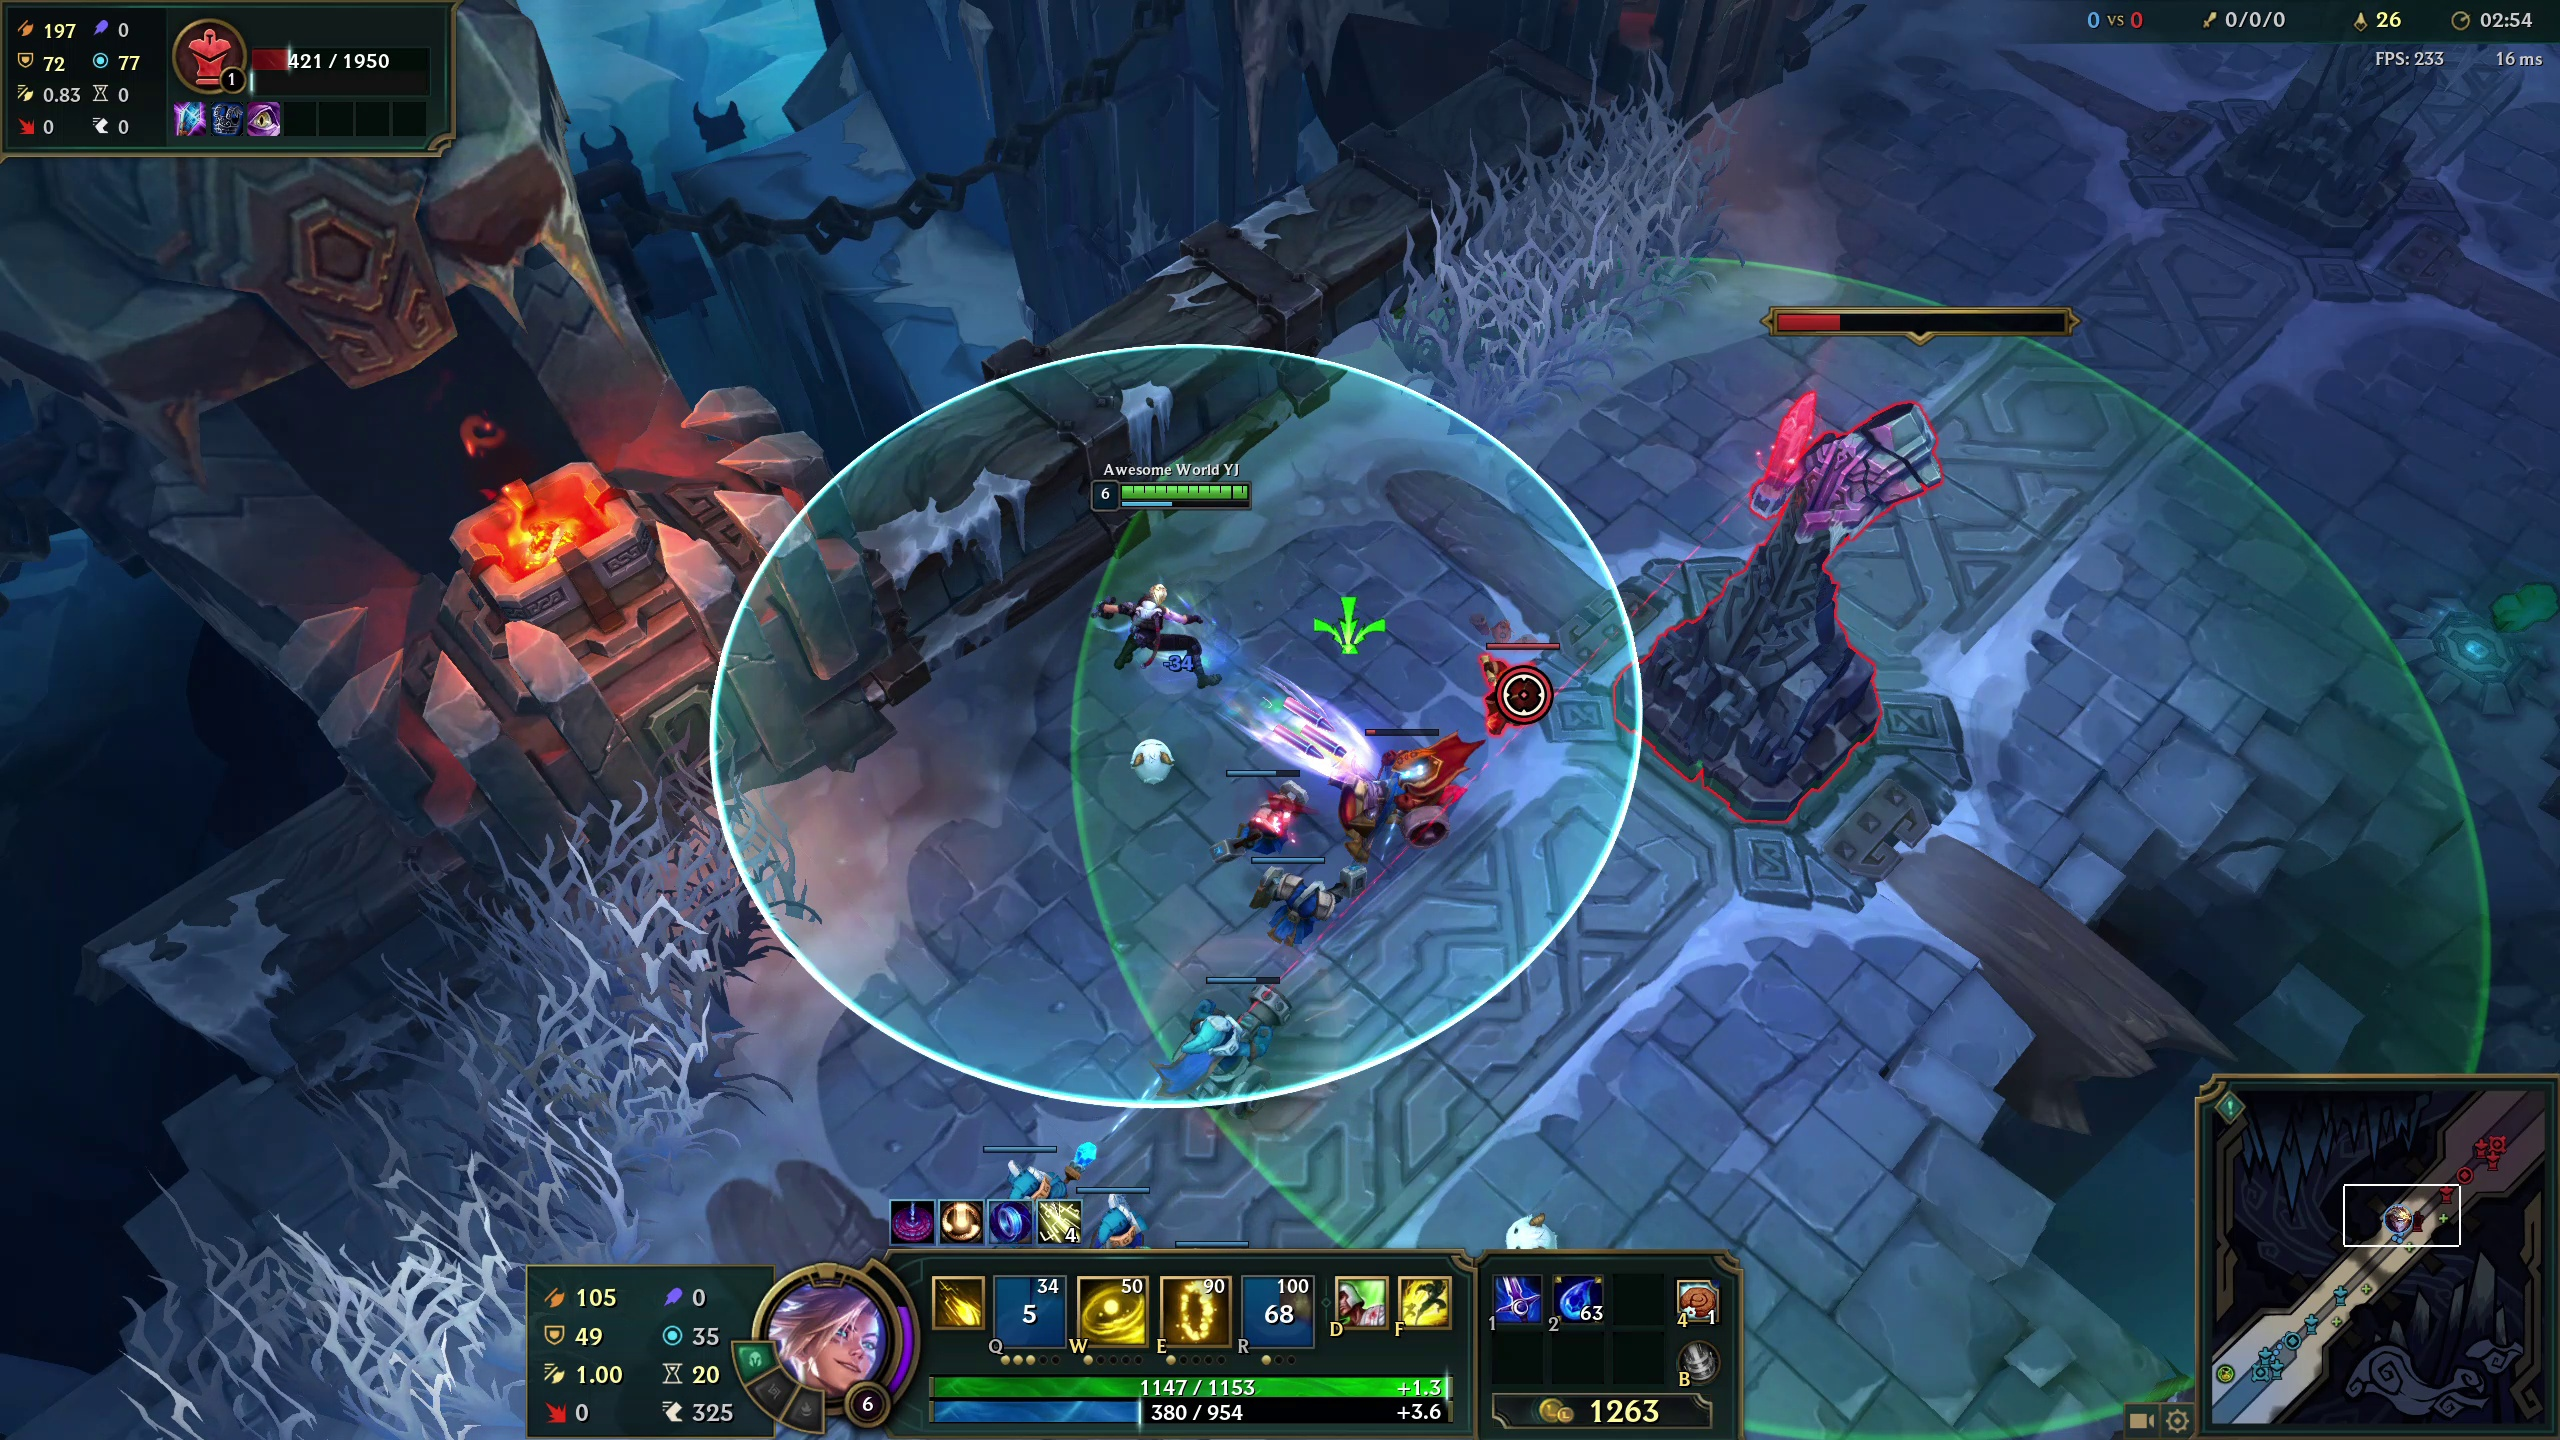EZ: (1074, 445, 1269, 682)
EnemyMinion: (1477, 651, 1553, 740)
EnemySuperMinnion: (1364, 721, 1466, 867)
Glass: (447, 853, 738, 1129), (1444, 132, 1704, 339), (206, 1254, 454, 1429)
MyMinion: (1238, 844, 1340, 944), (1220, 747, 1320, 847), (985, 1131, 1065, 1199), (1087, 1180, 1166, 1248)
MySuperMinnion: (1175, 971, 1322, 1122)
Turret: (1691, 417, 1848, 795), (2265, 63, 2412, 229)
